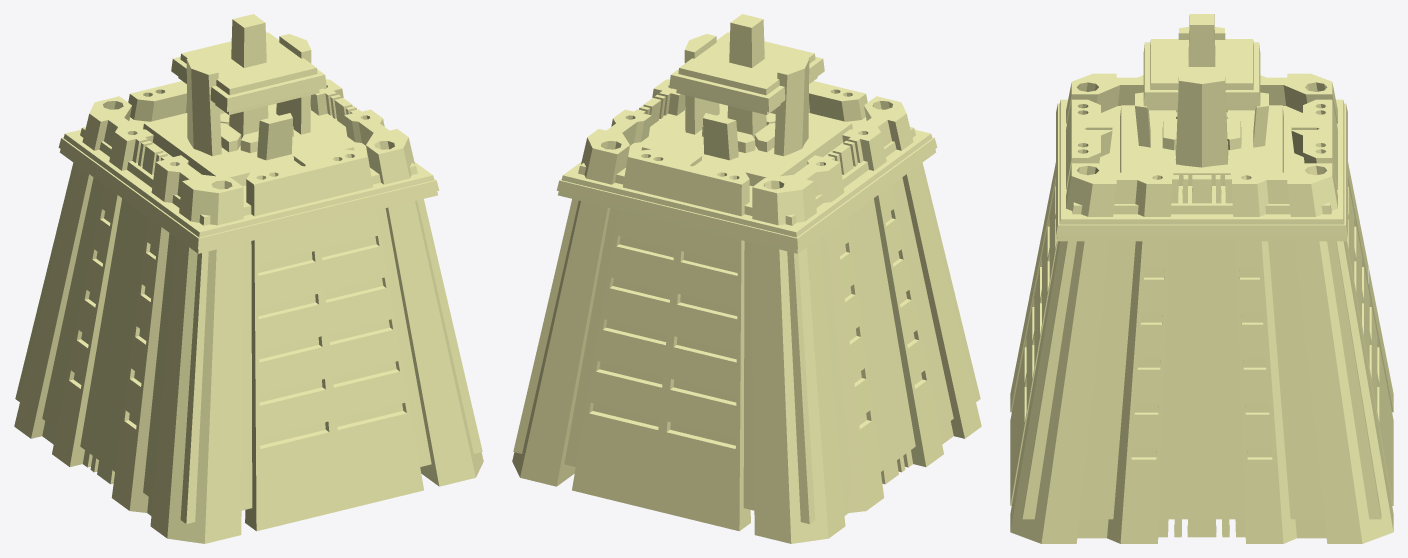
The model's file is MangaKa Props - F_S_ScifiBuilding_56.glb.
The picture shows the model from 3 angles, left to right: view 1: azimuth 30°, elevation 25°; view 2: azimuth 150°, elevation 25°; view 3: azimuth 270°, elevation 25°; orthographic projection. The views are drawn at different scales.
Visible parts, largest first — view 1: F_S_ScifiBuilding_56003_blueScreen, F_S_ScifiBuilding_56_blueScreen, F_S_ScifiBuilding_56002_blueScreen, F_S_ScifiBuilding_56001_blueScreen; view 2: F_S_ScifiBuilding_56003_blueScreen, F_S_ScifiBuilding_56_blueScreen, F_S_ScifiBuilding_56002_blueScreen, F_S_ScifiBuilding_56001_blueScreen; view 3: F_S_ScifiBuilding_56003_blueScreen, F_S_ScifiBuilding_56_blueScreen, F_S_ScifiBuilding_56002_blueScreen, F_S_ScifiBuilding_56001_blueScreen.
Boxes of the visible parts, x1,y1,x2,y2 form: F_S_ScifiBuilding_56003_blueScreen: [14, 53, 483, 543]; F_S_ScifiBuilding_56_blueScreen: [15, 14, 482, 523]; F_S_ScifiBuilding_56002_blueScreen: [31, 183, 461, 466]; F_S_ScifiBuilding_56001_blueScreen: [143, 103, 354, 186]; F_S_ScifiBuilding_56003_blueScreen: [512, 53, 981, 543]; F_S_ScifiBuilding_56_blueScreen: [513, 14, 980, 523]; F_S_ScifiBuilding_56002_blueScreen: [534, 183, 964, 466]; F_S_ScifiBuilding_56001_blueScreen: [641, 103, 852, 186]; F_S_ScifiBuilding_56003_blueScreen: [1010, 40, 1393, 543]; F_S_ScifiBuilding_56_blueScreen: [1022, 14, 1381, 537]; F_S_ScifiBuilding_56002_blueScreen: [1024, 162, 1379, 464]; F_S_ScifiBuilding_56001_blueScreen: [1120, 105, 1283, 185].
Bounding box in the file's own units: 9.51 × 12.14 × 9.51.
